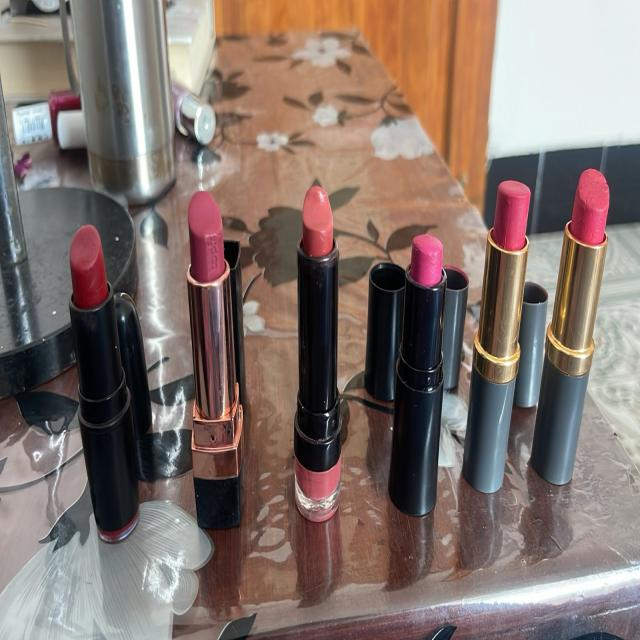lip shade: (167, 182, 265, 540)
lip stick: (46, 188, 157, 580), (277, 171, 358, 544), (378, 217, 466, 551), (546, 153, 619, 527), (468, 157, 534, 528)
